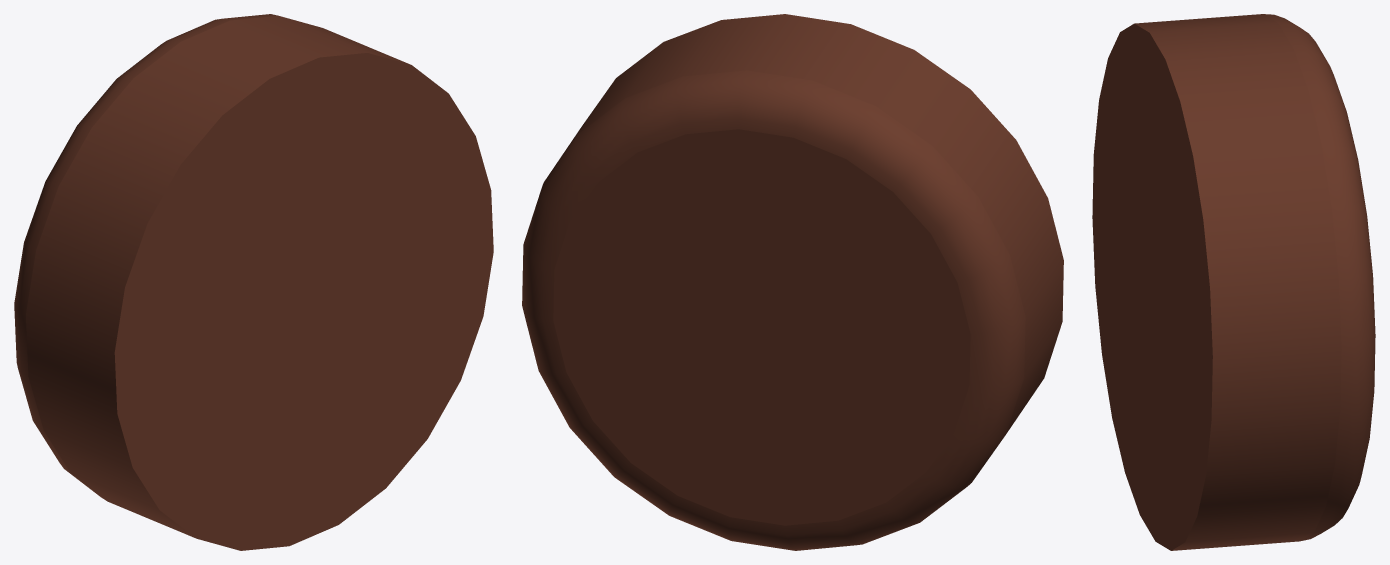
The model's file is original-34.obj.
The picture shows the model from 3 angles, left to right: view 1: azimuth 30°, elevation 25°; view 2: azimuth 150°, elevation 25°; view 3: azimuth 270°, elevation 25°; orthographic projection.
Visible parts, largest first — view 1: Component_5_28/Component_5/mesh11/mesh11-geometry#mesh11-geometr; view 2: Component_5_28/Component_5/mesh11/mesh11-geometry#mesh11-geometr; view 3: Component_5_28/Component_5/mesh11/mesh11-geometry#mesh11-geometr.
Boxes of the visible parts, x1,y1,x2,y2 form: Component_5_28/Component_5/mesh11/mesh11-geometry#mesh11-geometr: [14, 14, 493, 550]; Component_5_28/Component_5/mesh11/mesh11-geometry#mesh11-geometr: [522, 14, 1063, 550]; Component_5_28/Component_5/mesh11/mesh11-geometry#mesh11-geometr: [1092, 14, 1375, 550].
Bounding box in the file's own units: 0.0584 × 0.0568 × 0.0304.
